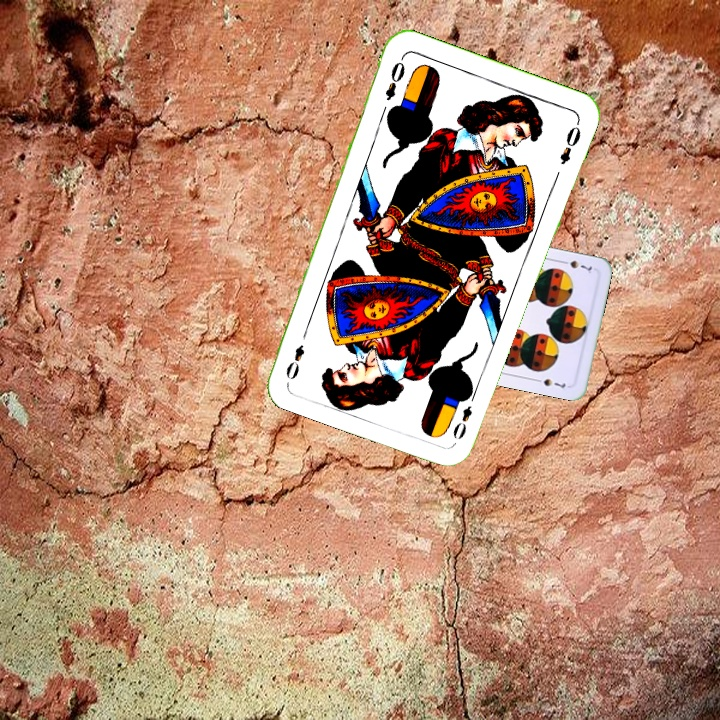EO: (448, 387, 479, 442), (381, 52, 408, 103)
S7: (556, 256, 595, 276)
